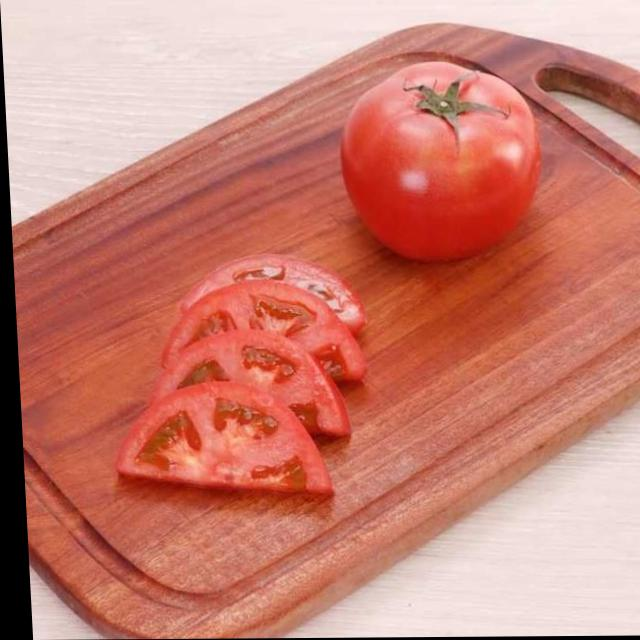kirmizi: (320, 41, 578, 282)
